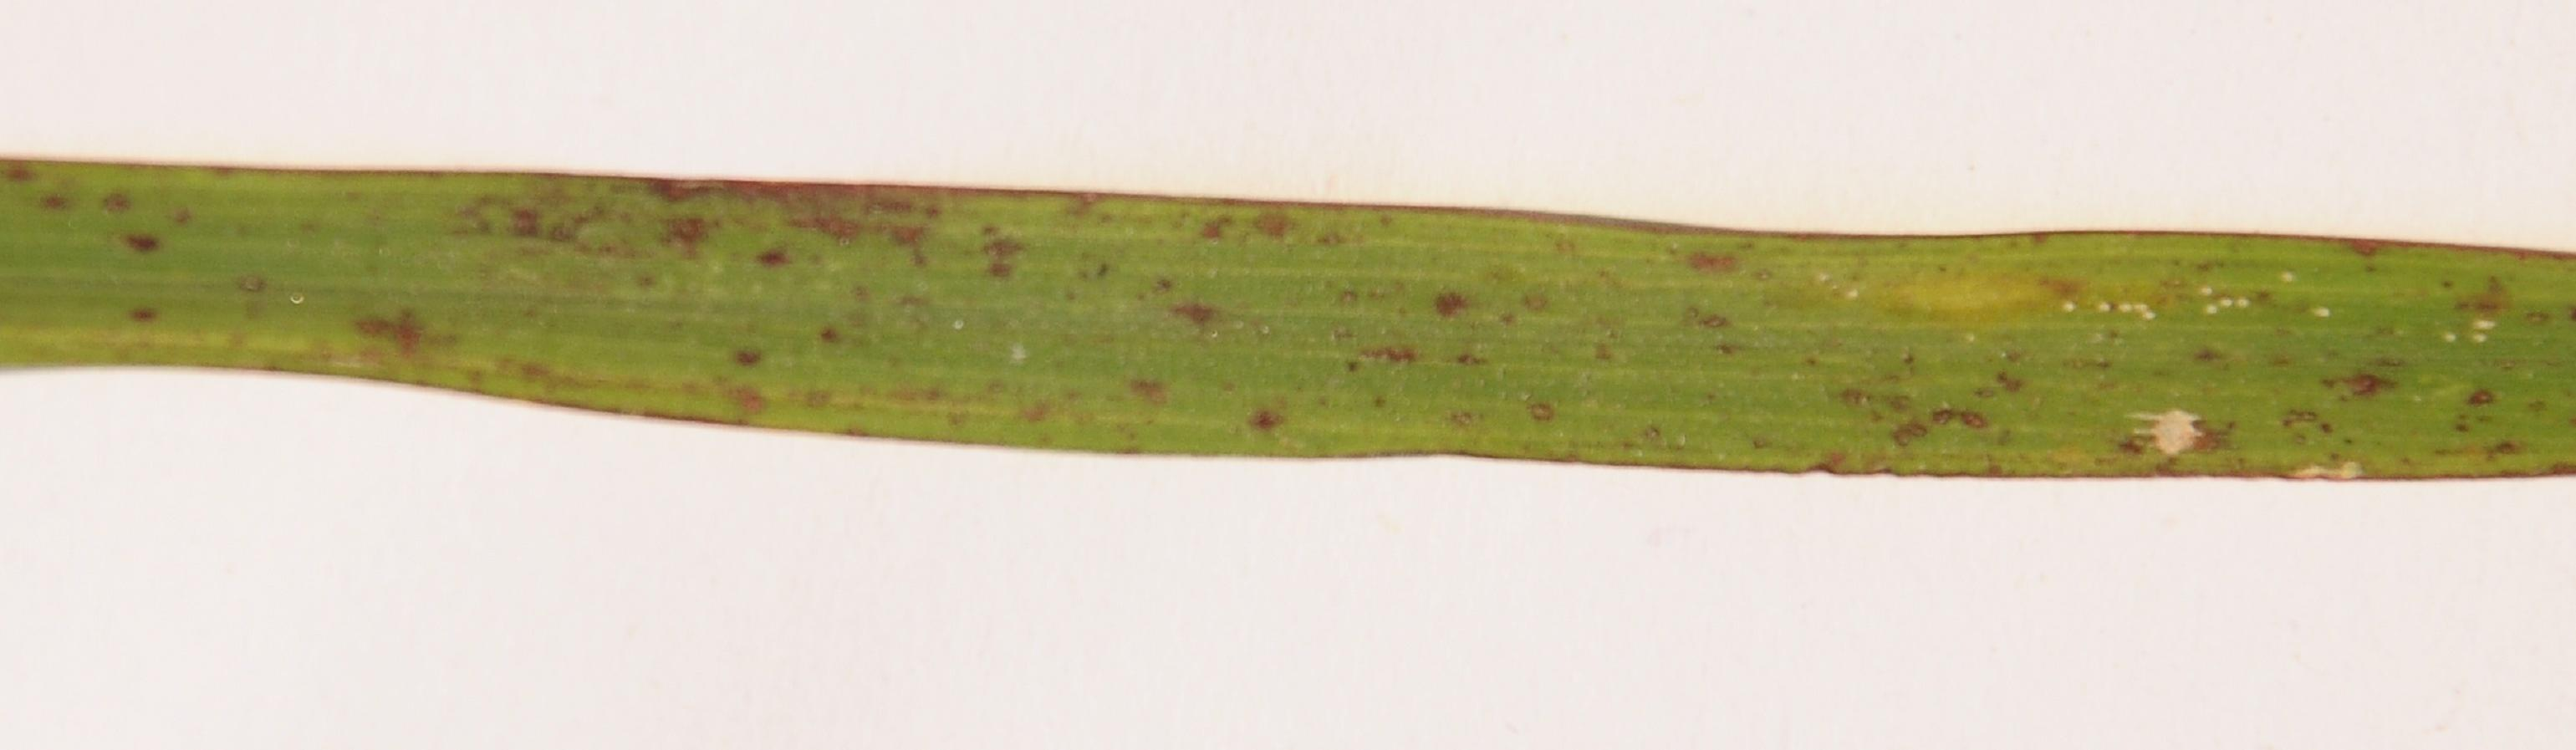leaf_smut: (74, 159, 2551, 486)
